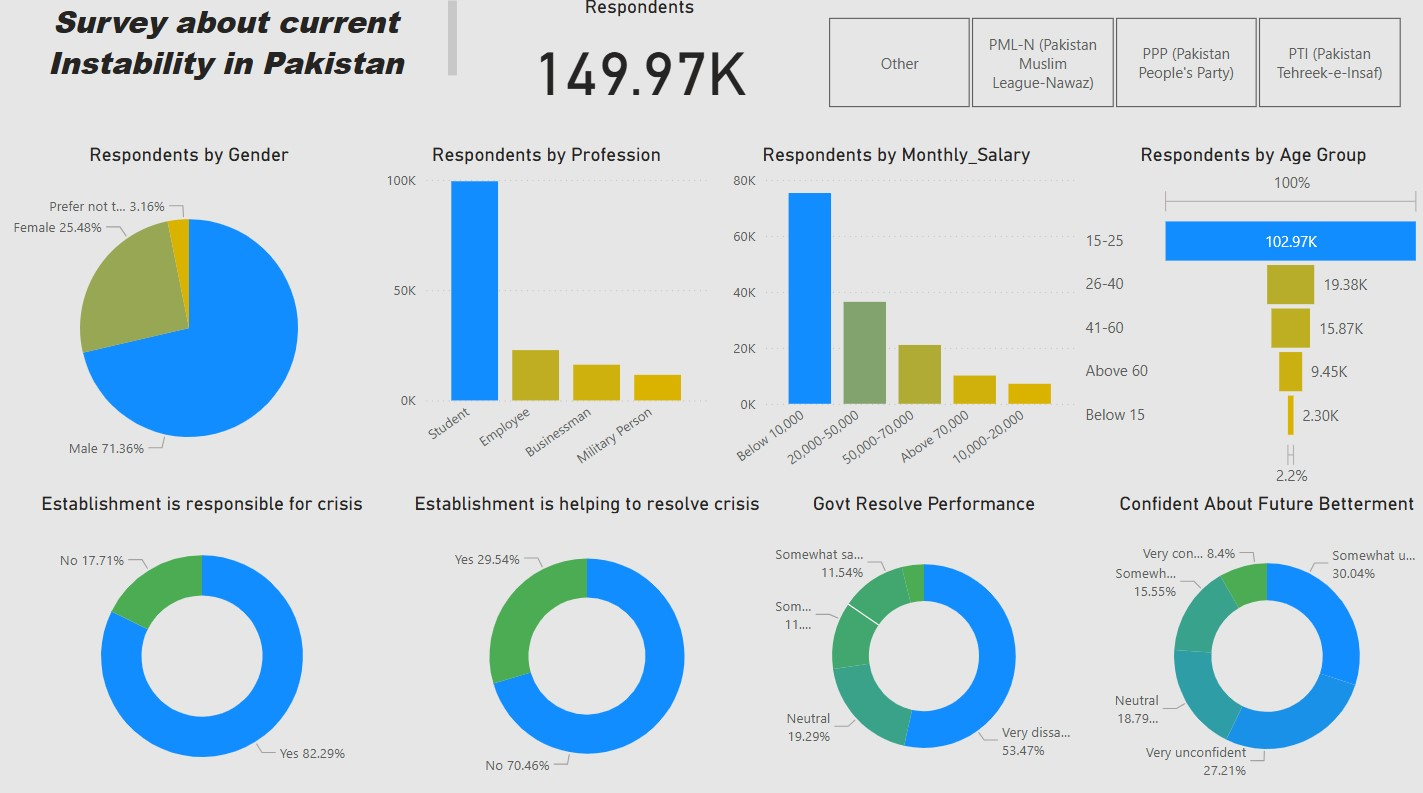

This screenshot's page, from the dashboard's own definition file:
{"tool":"powerbi","page":{"name":"Page 1","canvas":[1280,720],"ordinal":0},"visuals":[{"type":"pieChart","title":"Respondents by Gender","fields":{"Category":["Survey about Current Instabilit.Gender"],"Y":["CountNonNull(Survey about Current Instabilit.Index)"]},"box":[0,132.5,342.1,312.5],"z":0},{"type":"funnel","title":"Respondents by Age Group","fields":{"Y":["CountNonNull(Survey about Current Instabilit.Respons_Party)"],"Category":["Survey about Current Instabilit.Age"]},"box":[969,132.5,310.7,312.5],"z":1000},{"type":"columnChart","title":"Respondents by Monthly_Salary","fields":{"Category":["Survey about Current Instabilit.Monthly_Salary"],"Y":["CountNonNull(Survey about Current Instabilit.Index)"]},"box":[640.3,132.5,328.7,312.5],"z":2000},{"type":"slicer","title":"Respondents Party","fields":{"Values":["Survey about Current Instabilit.Respons_Party"]},"box":[718.2,13.4,561.5,94],"z":3000},{"type":"donutChart","title":"Establishment is responsible for crisis","fields":{"Category":["Survey about Current Instabilit.Crisis_Respons_Establish"],"Y":["CountNonNull(Survey about Current Instabilit.Index)"]},"box":[0,445.1,365.4,274.9],"z":4000},{"type":"card","title":"Respondents","fields":{"Values":["CountNonNull(Survey about Current Instabilit.Index)"]},"box":[459.4,0,230.1,107.5],"z":5000},{"type":"donutChart","title":"Govt Resolve Performance","fields":{"Y":["CountNonNull(Survey about Current Instabilit.Index)"],"Category":["Survey about Current Instabilit.Govt_Resolve_Perform"]},"box":[689.6,445.1,279.4,274.9],"z":6000},{"type":"donutChart","title":"Confident About Future Betterment","fields":{"Y":["CountNonNull(Survey about Current Instabilit.Index)"],"Category":["Survey about Current Instabilit.Confid_Future_Betterment"]},"box":[993.1,445.1,286.6,274.9],"z":7000},{"type":"donutChart","title":"Establishment is helping to resolve crisis","fields":{"Y":["CountNonNull(Survey about Current Instabilit.Index)"],"Category":["Survey about Current Instabilit.Crisis_Resolve_Establish"]},"box":[365.4,445.1,324.2,274.9],"z":8000},{"type":"textbox","box":[0,0,415.5,87.8],"z":9000},{"type":"columnChart","title":"Respondents by Profession","fields":{"Category":["Survey about Current Instabilit.Profession"],"Y":["CountNonNull(Survey about Current Instabilit.Index)"]},"box":[342.1,132.5,298.2,312.5],"z":10000}]}

Visuals, with their boxes in screenshot pixels (x1, y1, x2, y2), scaled from the page's 1280x720 canvas onto the 1423x793 screenshot:
"Respondents by Gender" pieChart: <box>0,146,380,490</box>
"Respondents by Age Group" funnel: <box>1077,146,1422,490</box>
"Respondents by Monthly_Salary" columnChart: <box>712,146,1077,490</box>
"Respondents Party" slicer: <box>798,15,1422,118</box>
"Establishment is responsible for crisis" donutChart: <box>0,490,406,792</box>
"Respondents" card: <box>511,0,767,118</box>
"Govt Resolve Performance" donutChart: <box>767,490,1077,792</box>
"Confident About Future Betterment" donutChart: <box>1104,490,1422,792</box>
"Establishment is helping to resolve crisis" donutChart: <box>406,490,767,792</box>
textbox: <box>0,0,462,97</box>
"Respondents by Profession" columnChart: <box>380,146,712,490</box>
